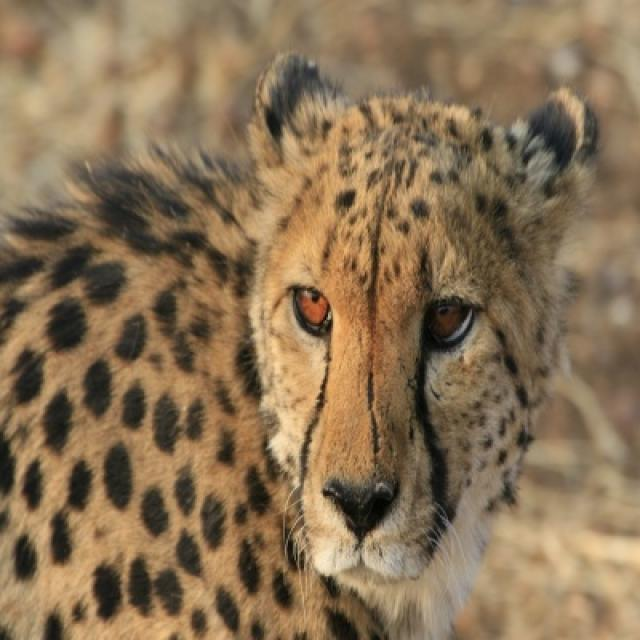Cheetah: (0, 54, 597, 638)
